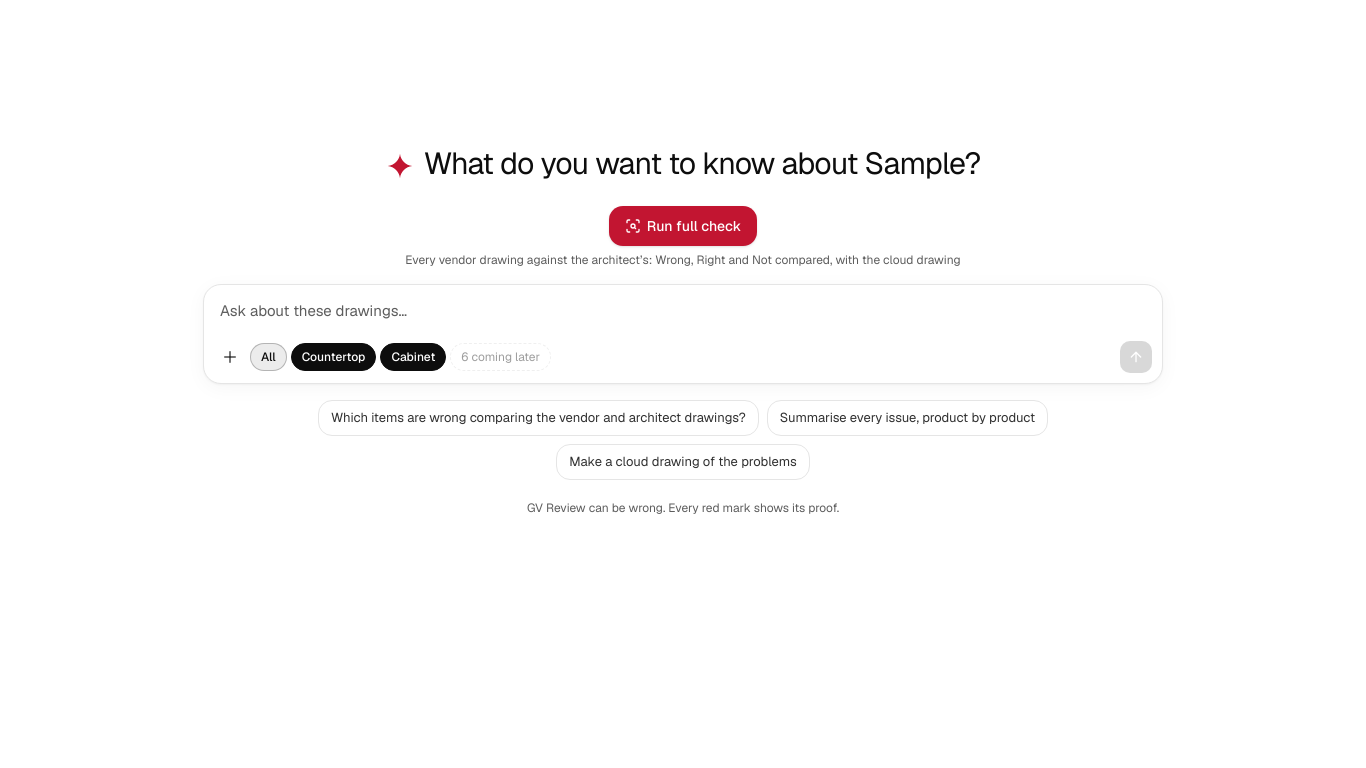
Scenario: the price on screen › the chat page asks the plan for the products picked and shows no per-answer cap for the full check
Click the button "Run full check": (683, 226) [609,206,757,246]
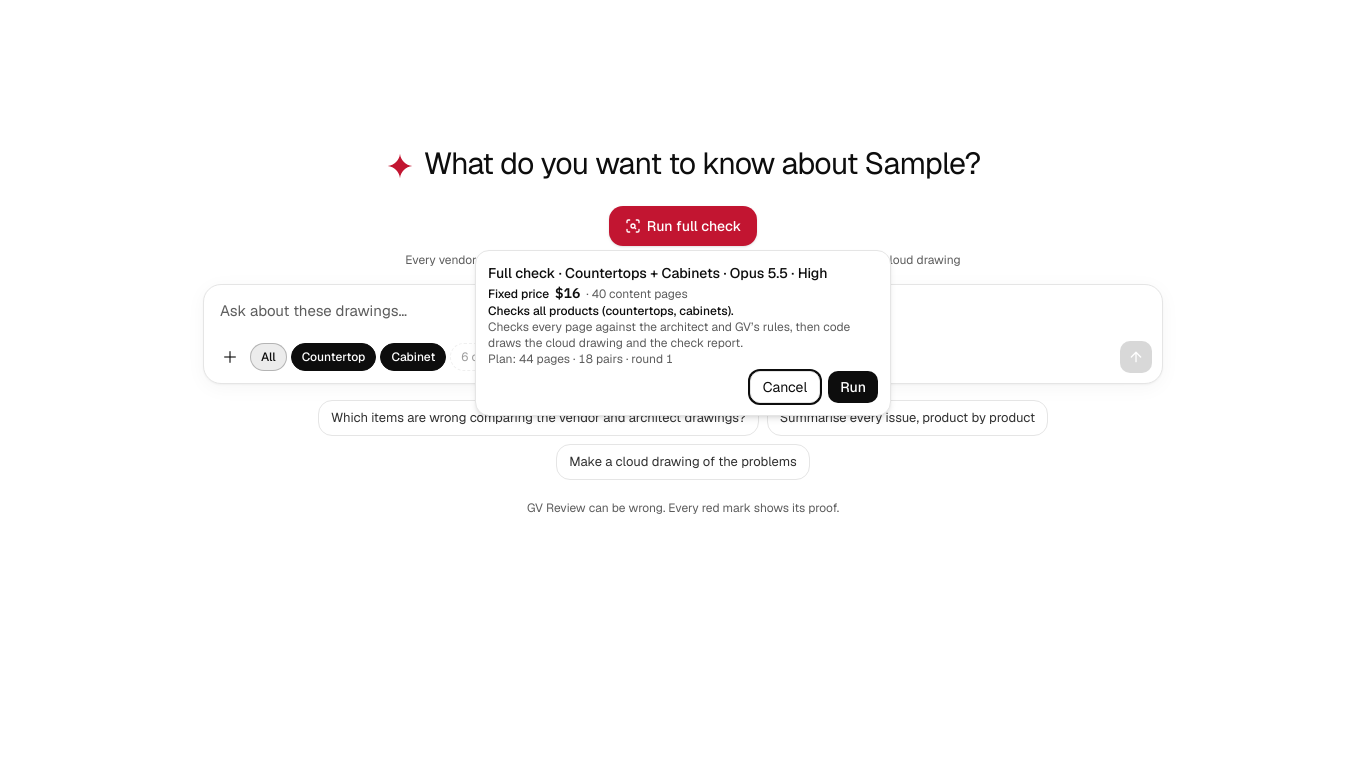
expect the element showing "Fixed price $16 · 40 content pages" is shown: met, box [488,284,688,302]
